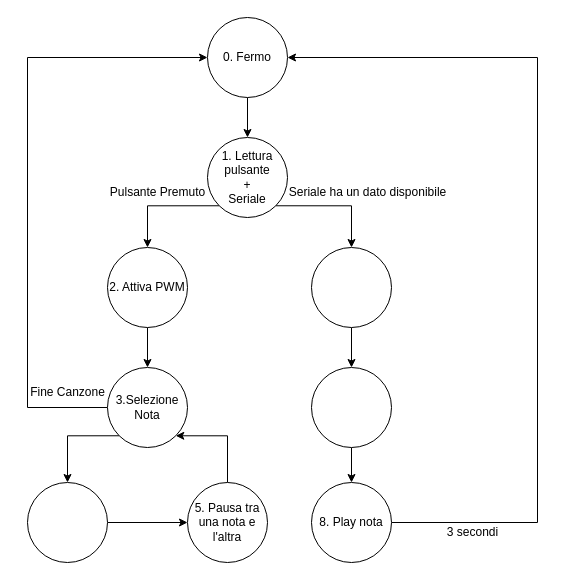
The diagram is 563 pixels wide and 580 high, and some of its shapes have lost their labels. The box of each missing label's shape, as (x1, y1, x2, y2) in pixels:
4. Play Nota: (26, 482, 108, 562)
6. Attiva PWM: (310, 246, 392, 328)
7. Setup Timer per Nota: (310, 366, 392, 448)
